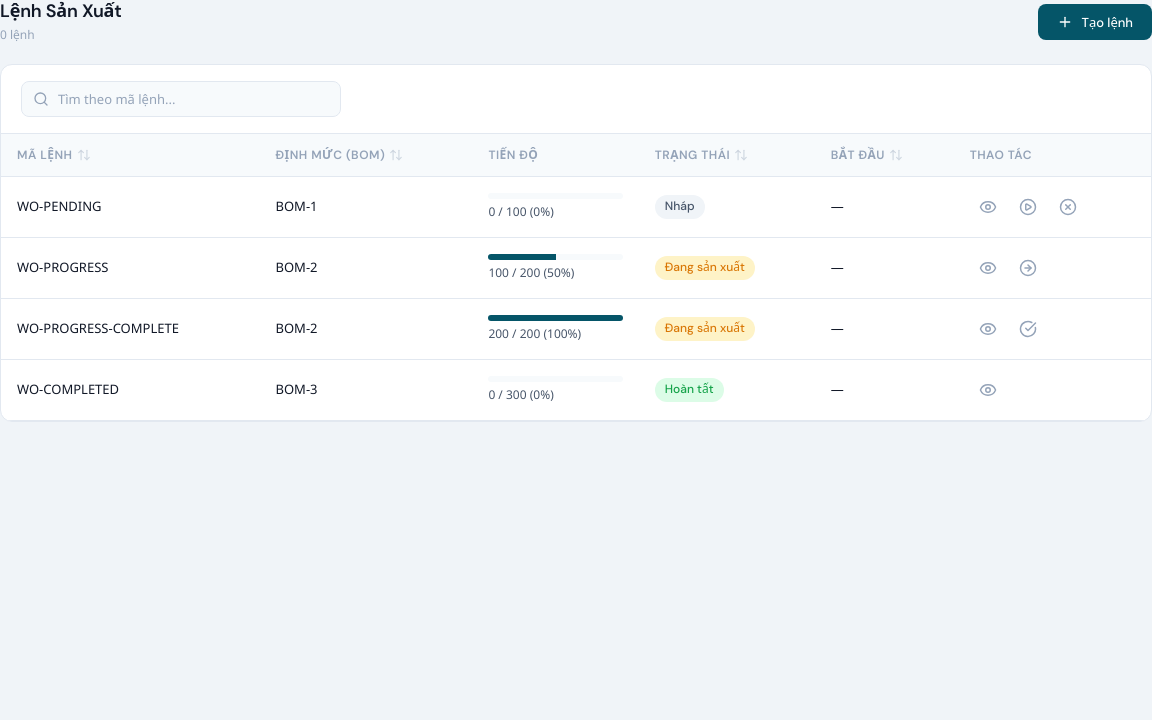
WorkOrderList › handles complete action
expect the text "WO-PROGRESS-COMPLETE" is shown: met, box [1, 298, 260, 360]
Click the button named "hoàn thành".
click(1028, 329)  # box [1010, 311, 1046, 347]
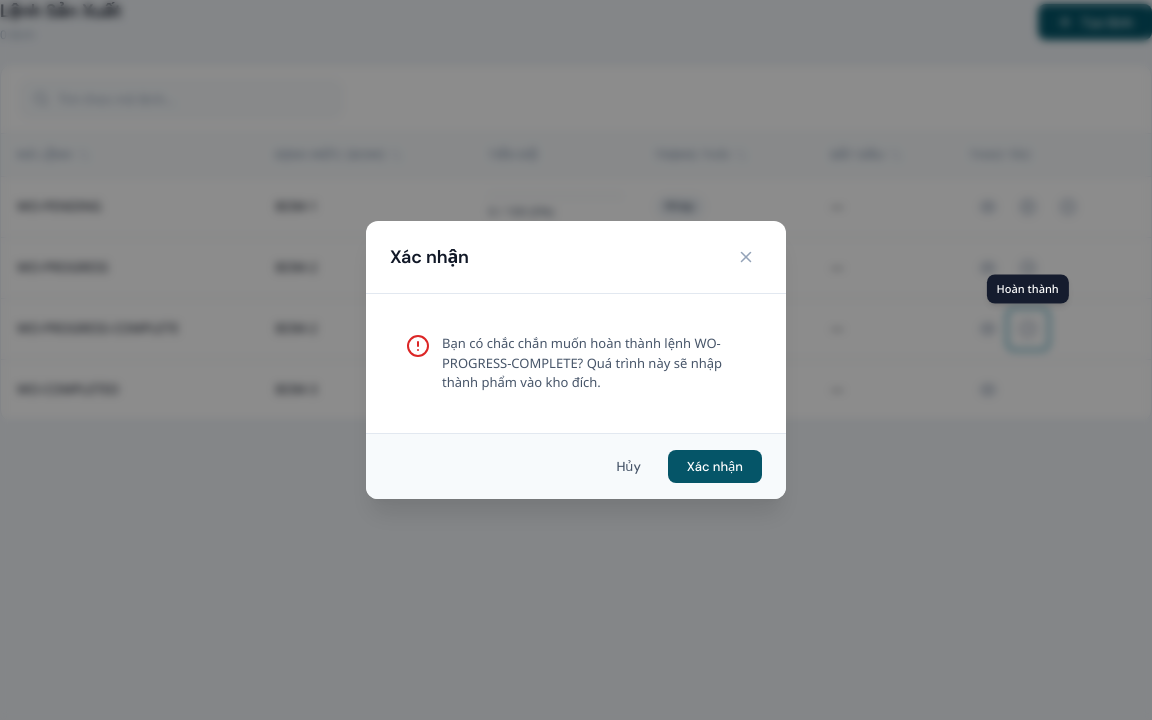
Click the button "Xác nhận".
click(715, 466)  # box [668, 450, 762, 483]
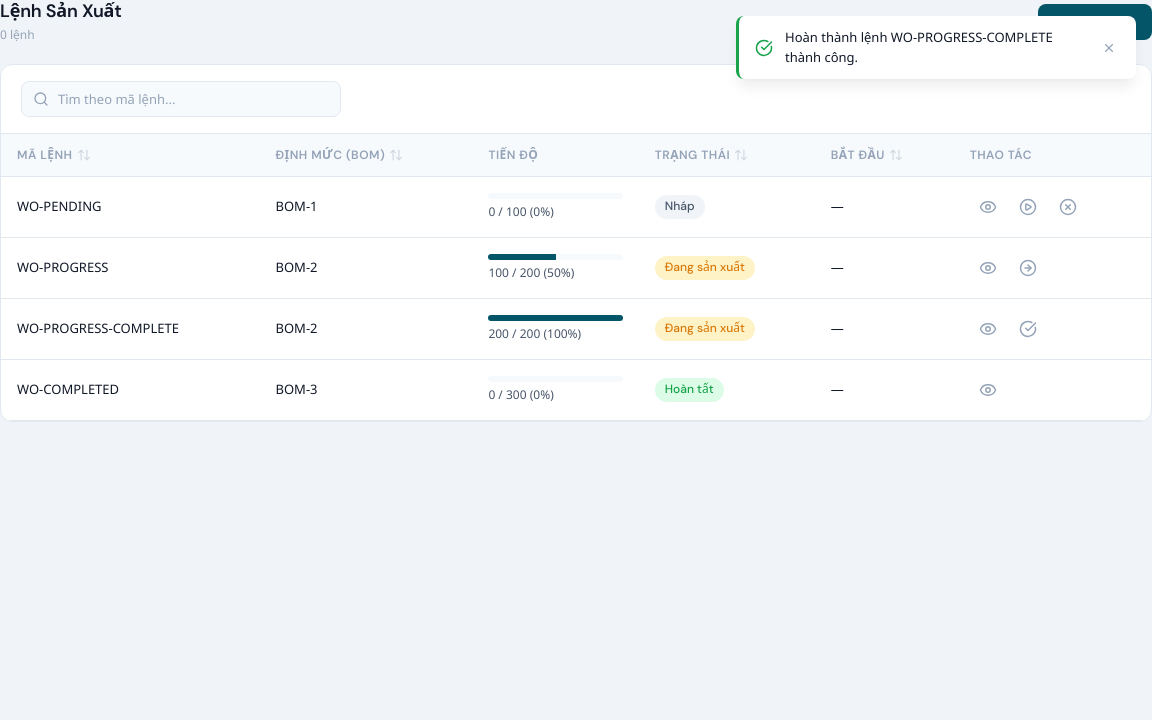
expect the text "Hoàn thành lệnh WO-PROGRESS-COMPLETE thành công." is shown: met, box [785, 28, 1086, 67]
